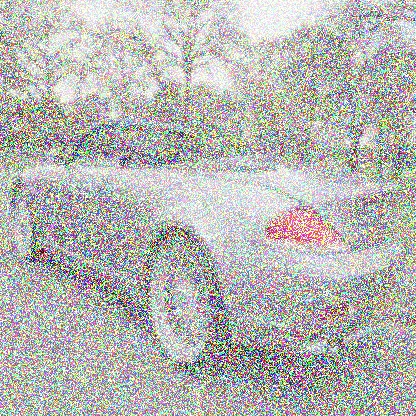Vehicle: (10, 118, 406, 377)
